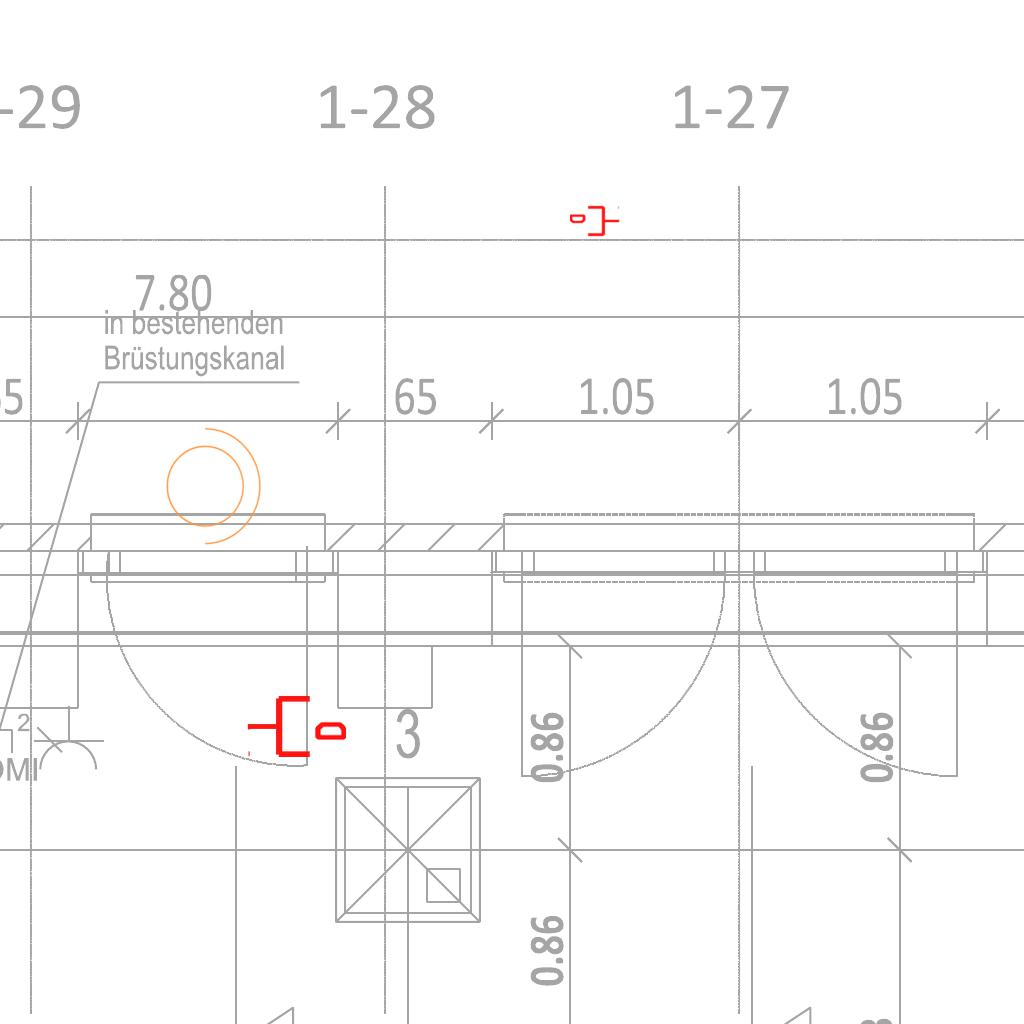Datenanschluss_einfach: (246, 692, 346, 761), (570, 204, 620, 238)
Scheinwerfer_fuer_Alarmbeleuchtung: (154, 417, 266, 549)
